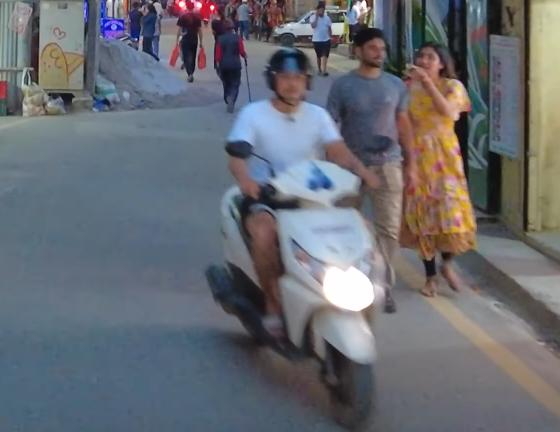scooter: (202, 131, 403, 432)
